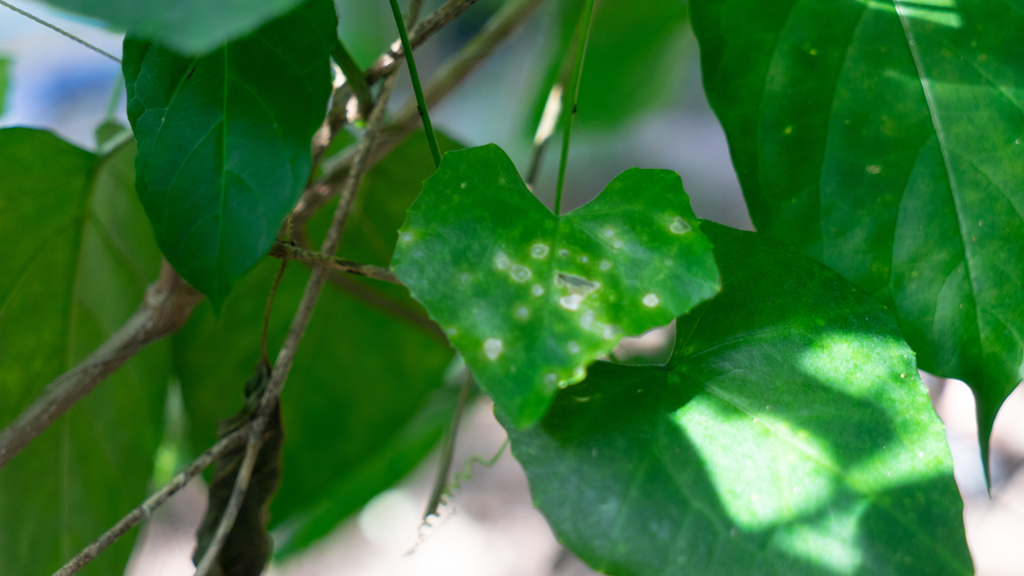Alternaria brassicicola: (446, 199, 699, 411)
